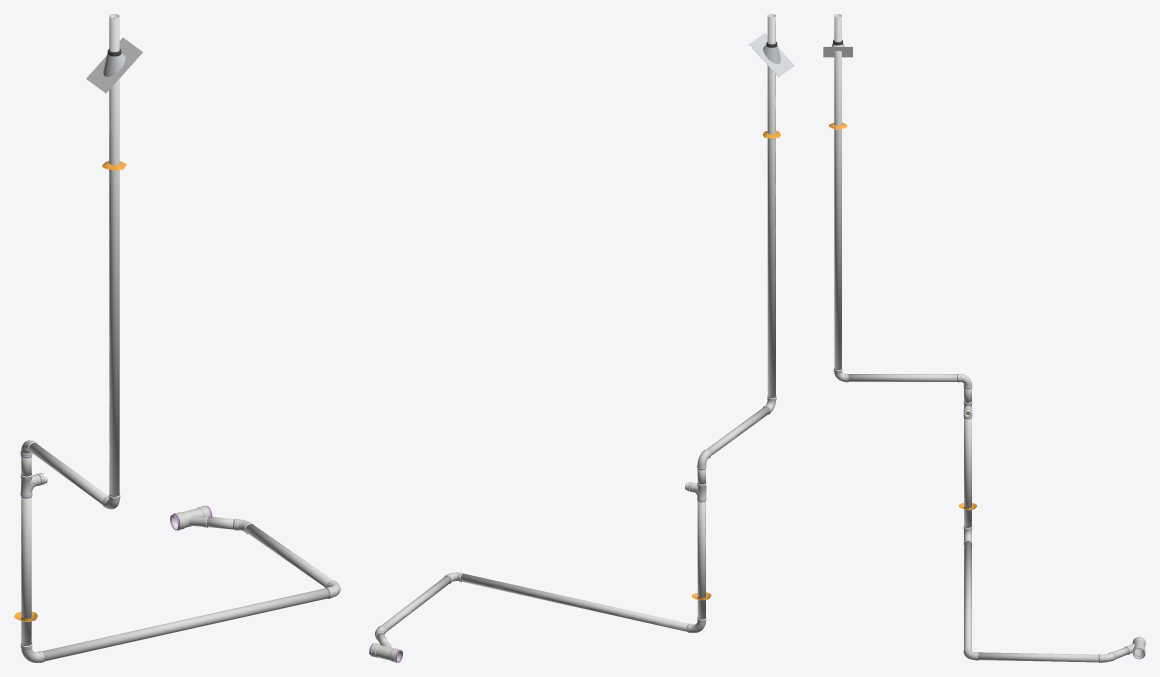
The model's file is pipes_dwv__kitchen_vent-roof.glb.
The picture shows the model from 3 angles, left to right: view 1: azimuth 30°, elevation 25°; view 2: azimuth 150°, elevation 25°; view 3: azimuth 270°, elevation 25°; orthographic projection. The views are drawn at different scales.
Visible parts, largest first — view 1: pipe_dwv_kitchen, vent_dwv_kitchen, vent_dwv_kitchen_flashing, fit_wye_pipe_dwv_kitchen; view 2: pipe_dwv_kitchen, vent_dwv_kitchen, vent_dwv_kitchen_flashing; view 3: vent_dwv_kitchen, pipe_dwv_kitchen.
Boxes of the visible parts, box(x1,y1,x2,y2) form: pipe_dwv_kitchen: box(20, 497, 340, 662); vent_dwv_kitchen: box(20, 14, 120, 509); vent_dwv_kitchen_flashing: box(86, 37, 142, 93); fit_wye_pipe_dwv_kitchen: box(170, 505, 212, 530); pipe_dwv_kitchen: box(375, 501, 706, 645); vent_dwv_kitchen: box(697, 14, 776, 483); vent_dwv_kitchen_flashing: box(749, 33, 794, 77); vent_dwv_kitchen: box(833, 14, 972, 402); pipe_dwv_kitchen: box(963, 414, 1128, 662).
Bounding box in the file's own units: 2.21 × 4.57 × 2.48.
